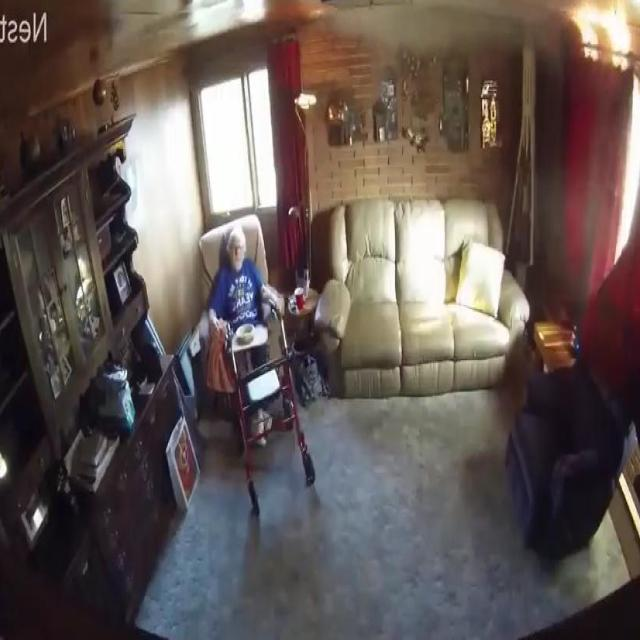smoke: (567, 0, 630, 69)
